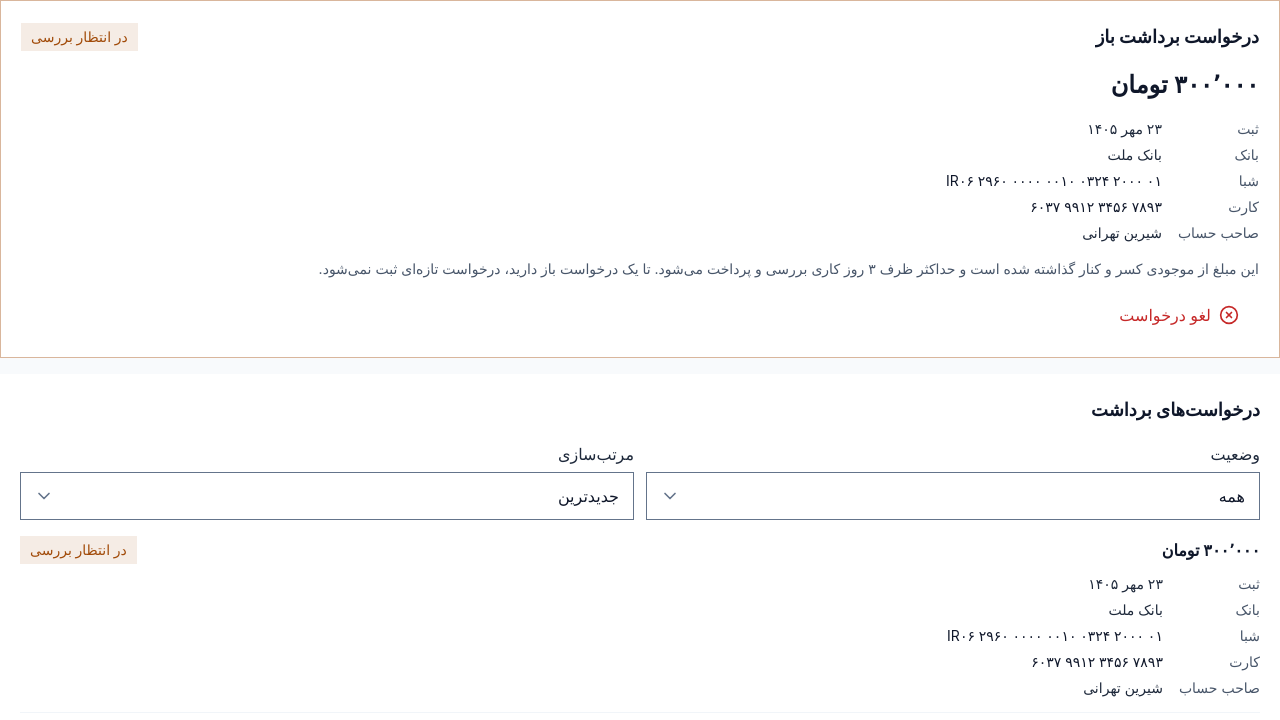
Test: the open request › cancelled: the question starts on «انصراف»; 200: the money back, said; the wallet read again
Click the button "لغو درخواست" at {"x": 1179, "y": 315}, box [1099,293,1259,337]
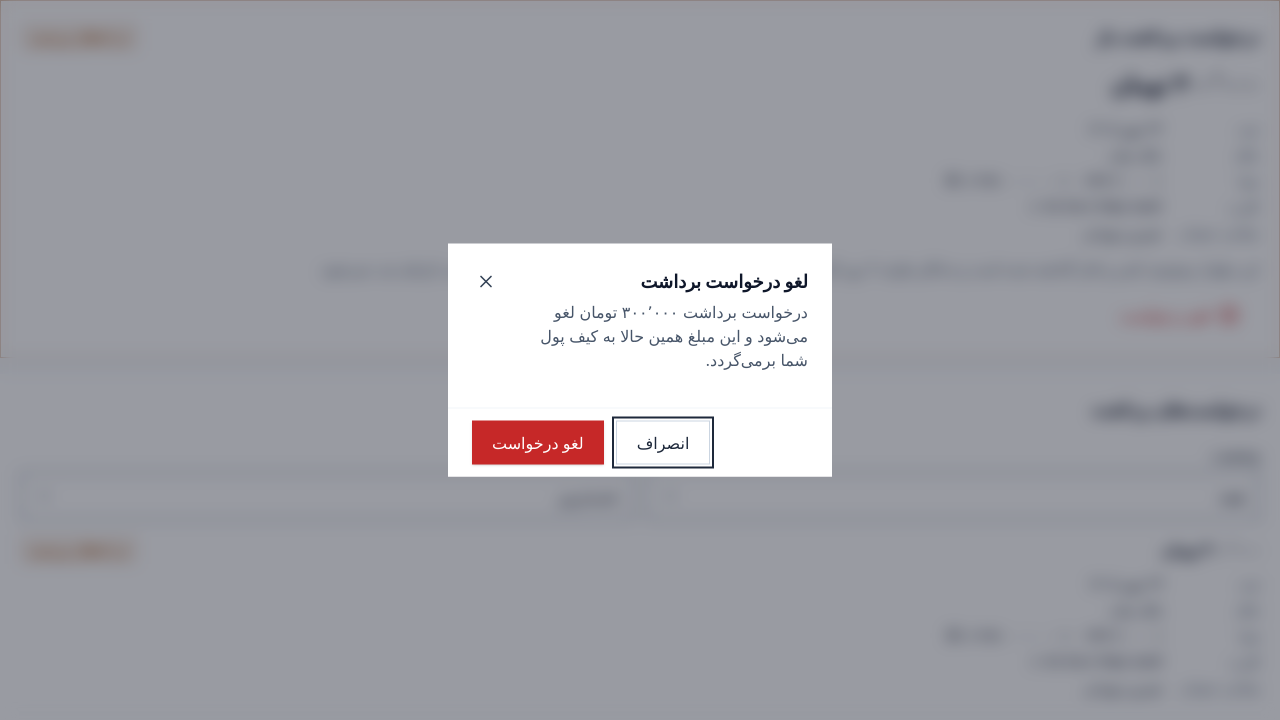
Result: the dialog "لغو درخواست برداشت" shows "۳۰۰٬۰۰۰ تومان" at [540,302,808,370]
Double-click the button "لغو درخواست" at {"x": 538, "y": 442}, box [472,420,604,464]
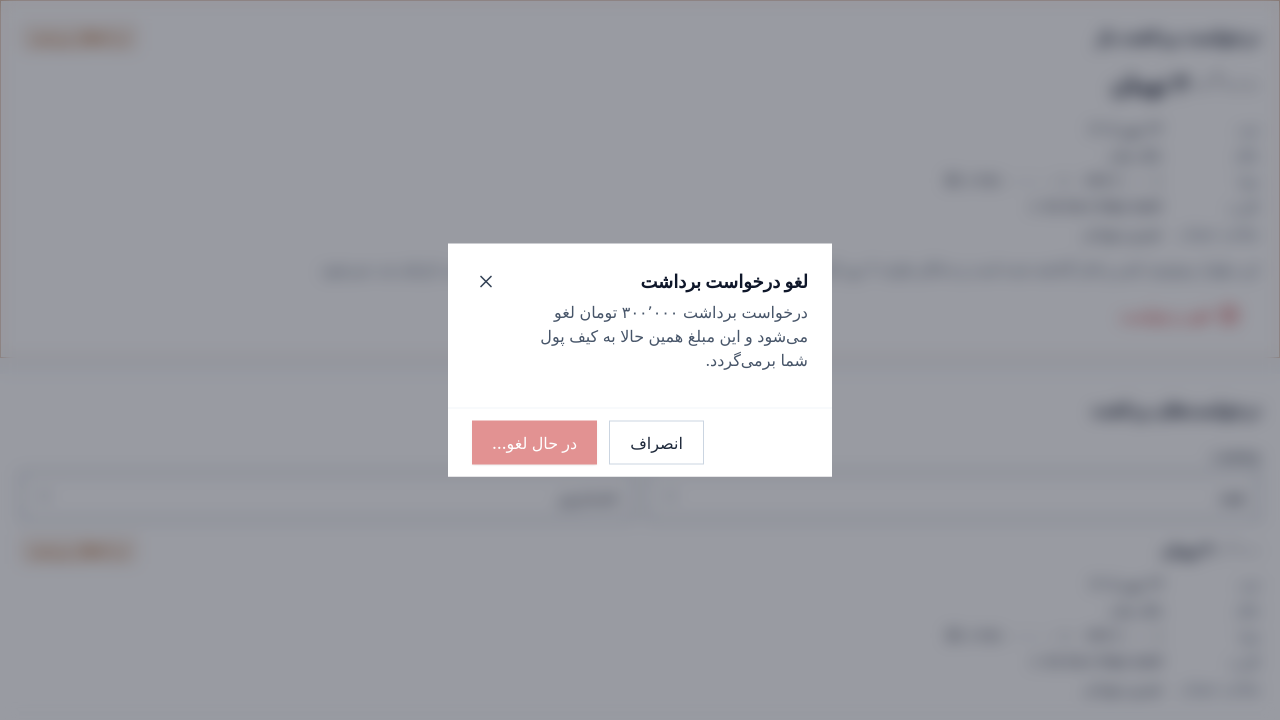
Click the button named "لغو درخواست" at {"x": 535, "y": 442}, box [472,420,597,464]
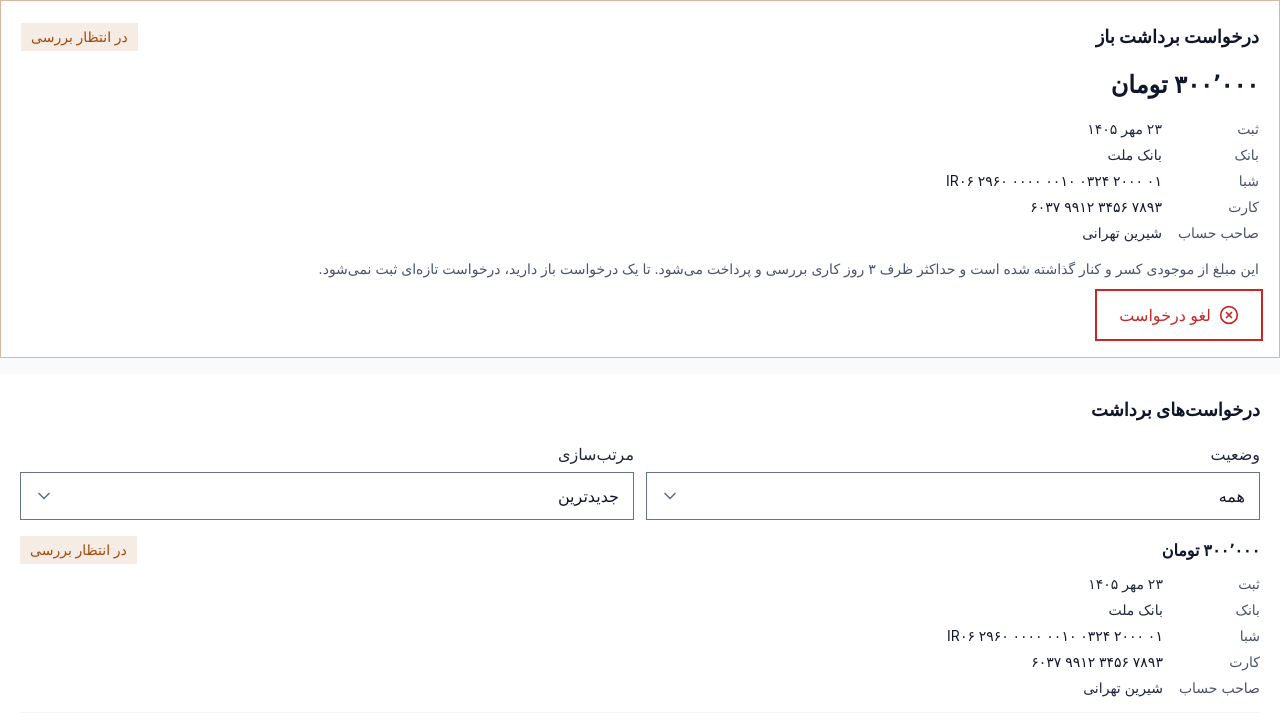
Result: the dialog is gone
